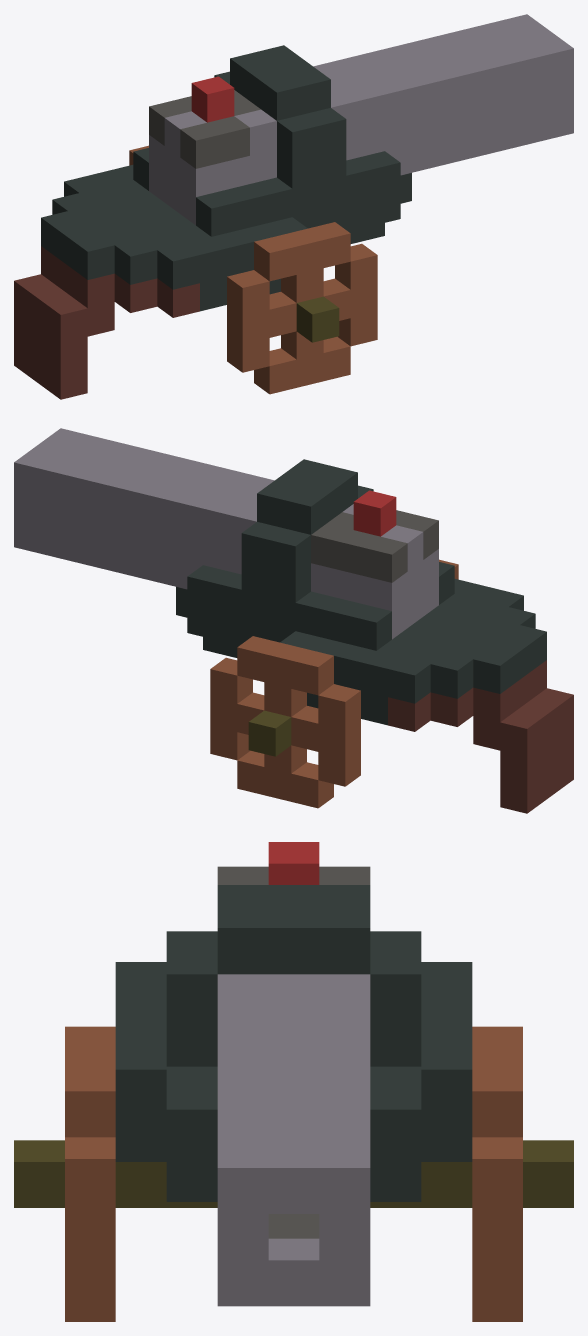
File: cannon.obj
The picture shows the model from 3 angles, top to bottom: view 1: azimuth 30°, elevation 25°; view 2: azimuth 150°, elevation 25°; view 3: azimuth 270°, elevation 25°; orthographic projection. The views are drawn at different scales.
Bounding box in the file's own units: 1.9 × 0.9 × 1.1.
1 material, 1 textured.
